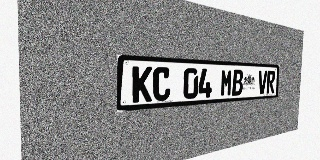0: (183, 68, 198, 99)
4: (198, 68, 212, 98)
B: (232, 69, 243, 96)
C: (152, 67, 171, 101)
K: (132, 66, 152, 103)
M: (220, 69, 233, 97)
R: (266, 71, 275, 94)
V: (258, 70, 267, 94)
